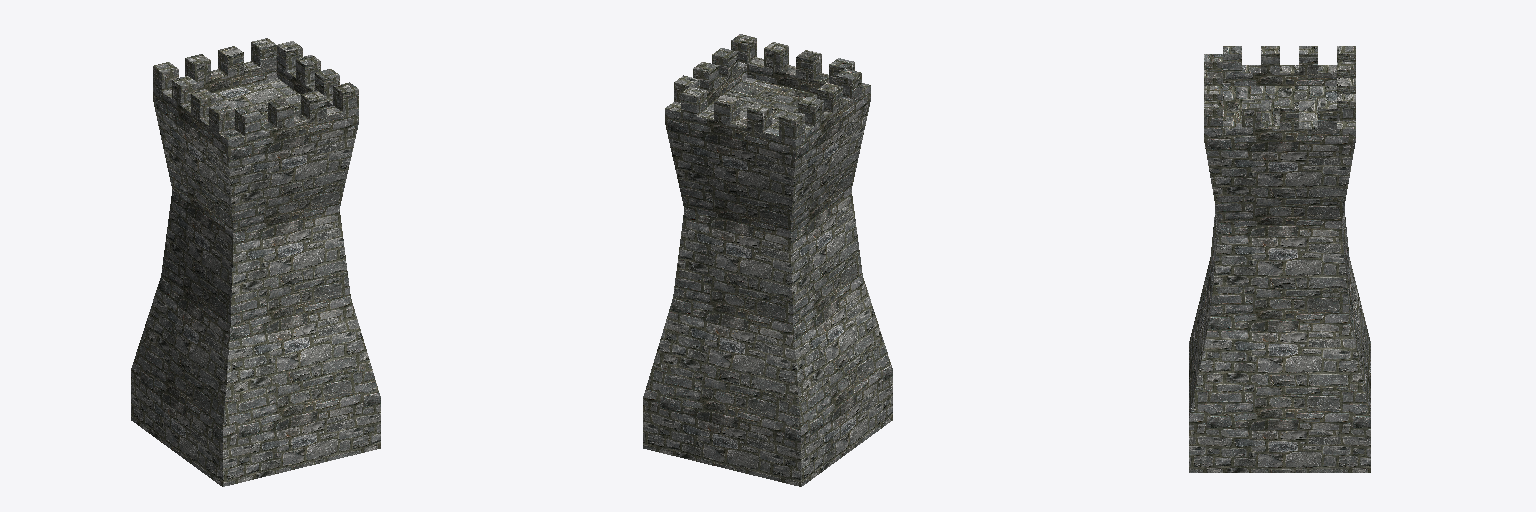
3 renders of one model, left to right at view 1: azimuth 30°, elevation 25°; view 2: azimuth 150°, elevation 25°; view 3: azimuth 270°, elevation 25°, orthographic.
Visible parts, largest first — view 1: Box001; view 2: Box001; view 3: Box001.
Part boxes in pixels (bbox=[...]): Box001: bbox=[131, 38, 380, 486]; Box001: bbox=[643, 34, 892, 486]; Box001: bbox=[1189, 46, 1370, 472].
Bounding box in the file's own units: 100 × 216 × 100.
1 materials, 1 textured.